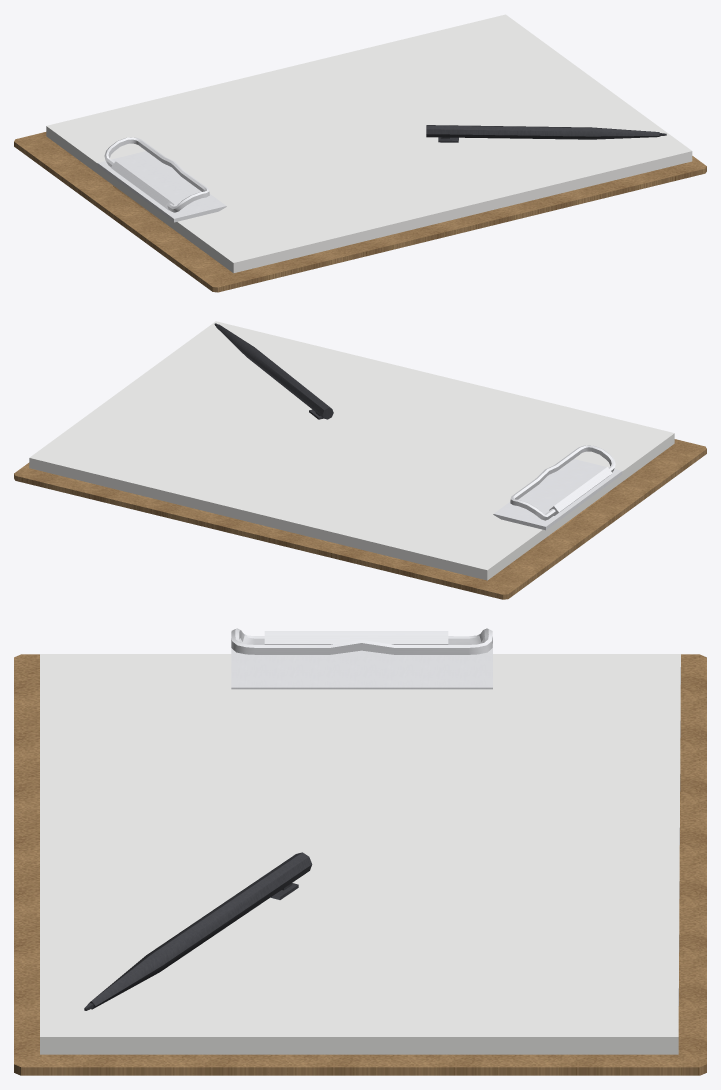
File: tablet-folder.glb
3 renders of one model, top to bottom at view 1: azimuth 30°, elevation 25°; view 2: azimuth 150°, elevation 25°; view 3: azimuth 270°, elevation 25°, orthographic. The views are drawn at different scales.
Parts seen in each view (by area): view 1: StackOfPaper; view 2: StackOfPaper; view 3: StackOfPaper.
Part boxes in pixels (x1,y1,x2,y2): StackOfPaper: [14, 14, 706, 292]; StackOfPaper: [14, 321, 706, 599]; StackOfPaper: [14, 628, 706, 1075].
Bounding box in the file's own units: 31 × 2.57 × 22.
Materials: 6 (4 with a texture image).
